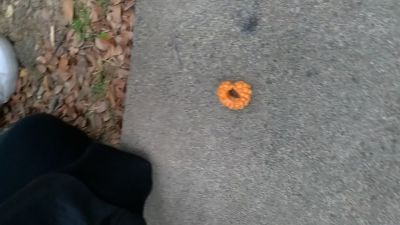eggs: (216, 79, 253, 110)
